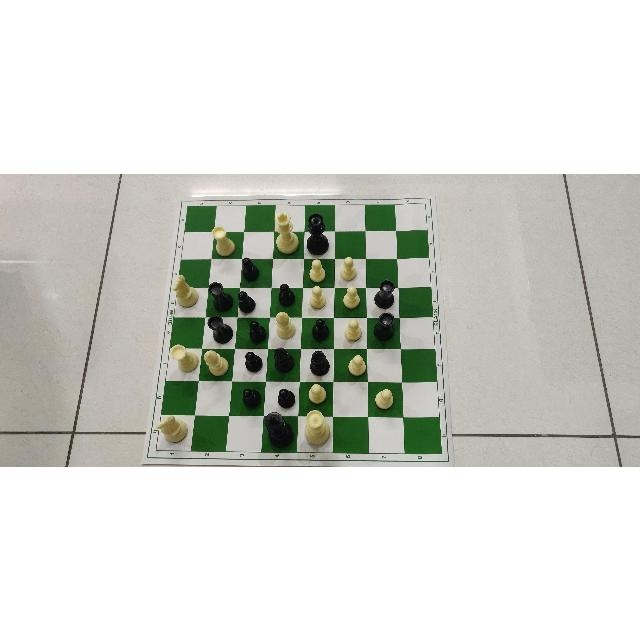black-bishop: (309, 350, 331, 374), (275, 347, 295, 373)
black-king: (265, 412, 295, 448)
black-pawn: (238, 386, 265, 412), (241, 252, 261, 284), (235, 287, 257, 314), (306, 315, 329, 339), (278, 282, 299, 308), (247, 316, 265, 344), (241, 349, 262, 370), (277, 386, 295, 407)
black-queen: (307, 213, 329, 254)
black-rook: (208, 282, 234, 310), (208, 316, 233, 343), (376, 279, 396, 309), (375, 313, 395, 342)
white-bishop: (204, 348, 229, 376), (274, 312, 296, 338)
white-king: (274, 212, 298, 253)
white-knight: (173, 275, 198, 307), (156, 418, 187, 442)
white-pawn: (374, 385, 396, 411), (304, 256, 325, 282), (335, 255, 357, 279), (306, 283, 326, 309), (343, 315, 362, 341), (308, 382, 330, 404), (341, 282, 359, 308), (347, 352, 366, 375)
white-queen: (304, 410, 330, 445)
white-rook: (170, 343, 197, 372), (211, 224, 235, 255)
